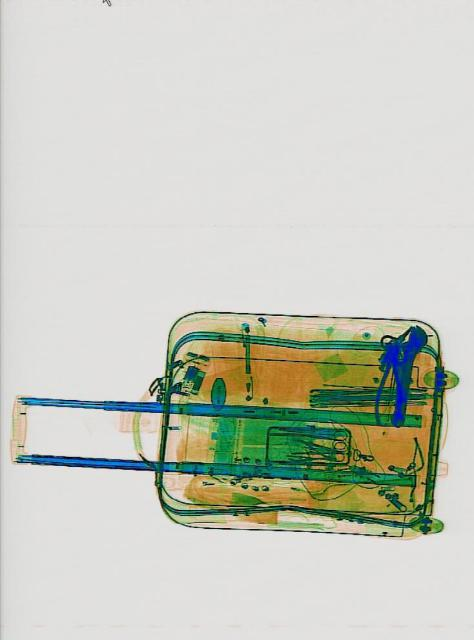Pliers: (370, 338, 404, 426)
Scissors: (293, 420, 346, 450)
Wrench: (377, 317, 427, 429)
